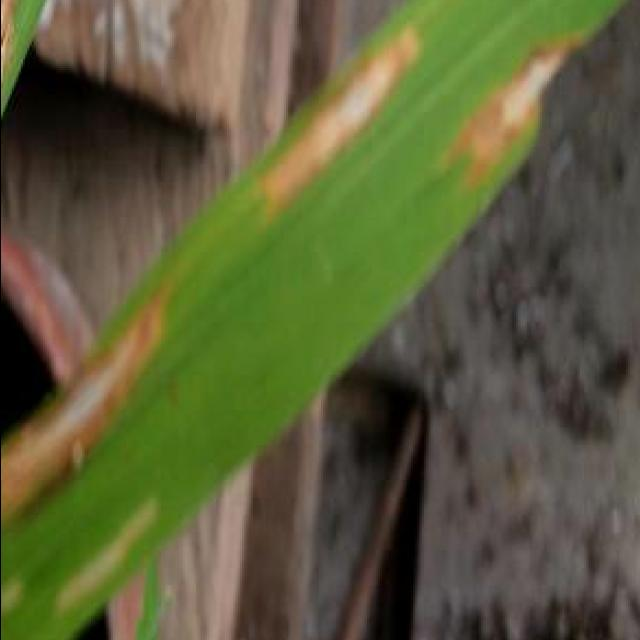Leaf_Blast: (235, 6, 442, 232), (2, 282, 190, 530), (449, 22, 618, 204)
